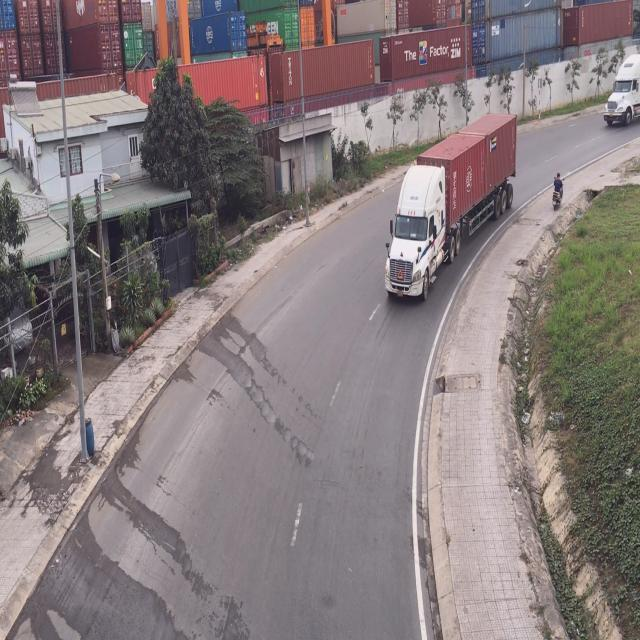motorbike: (552, 172, 566, 209)
truck: (387, 121, 518, 307), (603, 66, 640, 131)
